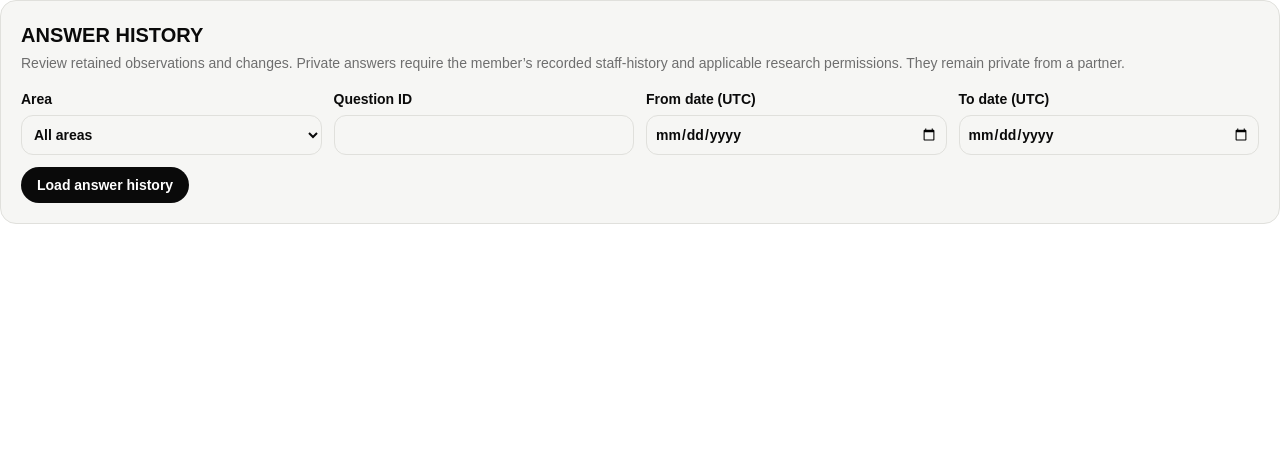
Test case: pagination uses the signed cursor and changing filters restarts the first page
The width and height of the screenshot is (1280, 471).
Submit the form, box [21,89,1259,203]
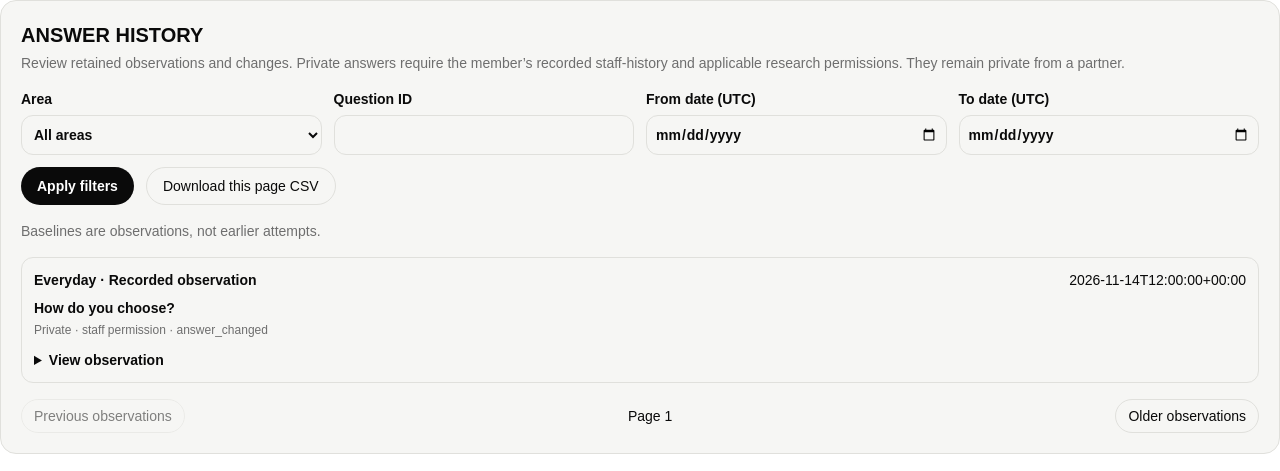
Click the button "Older observations" at (1187, 416), box [1116,399,1259,433]
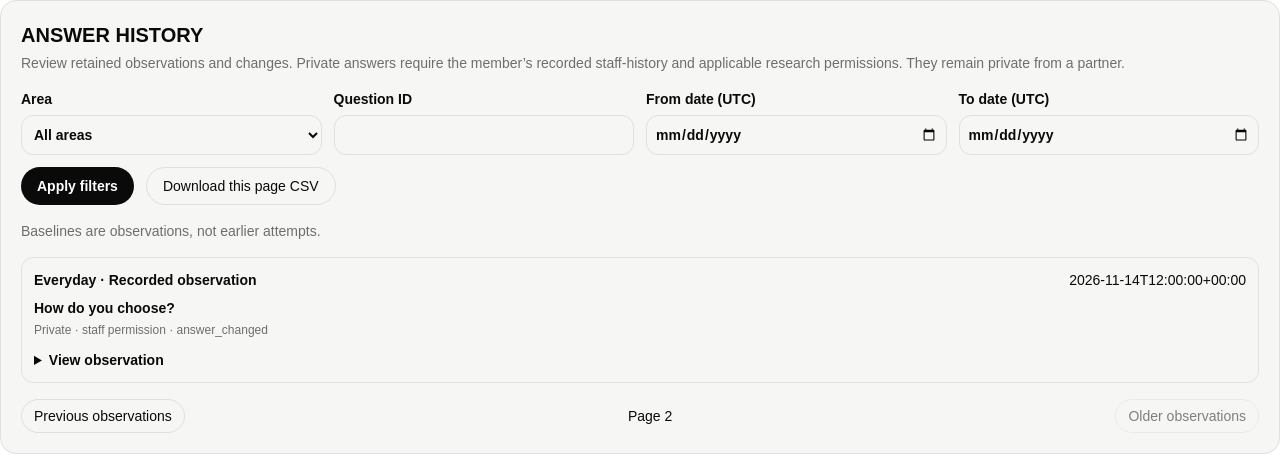
Check: the text "Page 2" is shown, box [628,406,672,426]
Select "Intimacy" in the dropdown labelled "Area" at (171, 135), box [21,115,322,155]
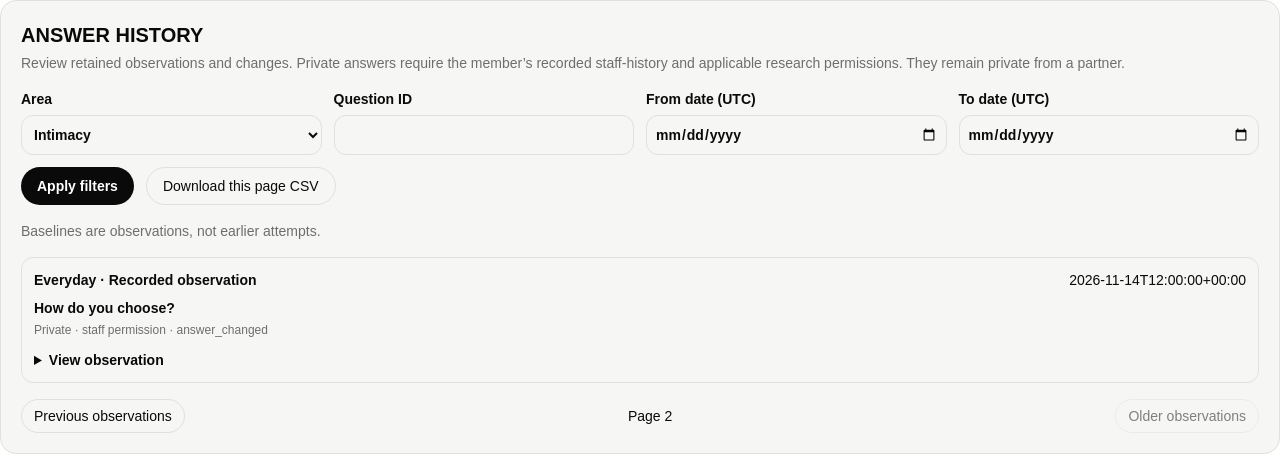
Submit the form, box [21,89,1259,205]
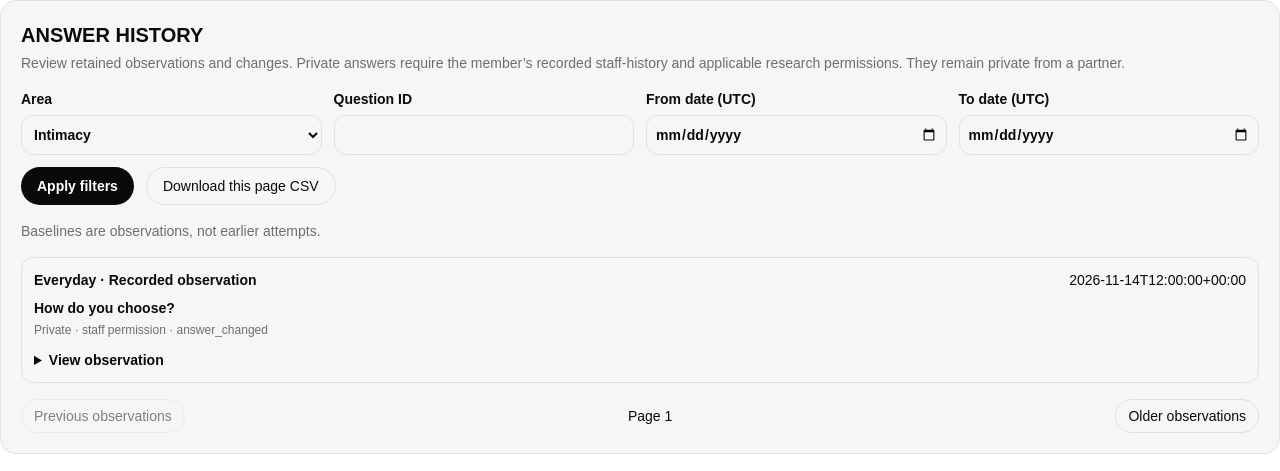
Check: the text "Page 1" is shown, box [628,406,672,426]
